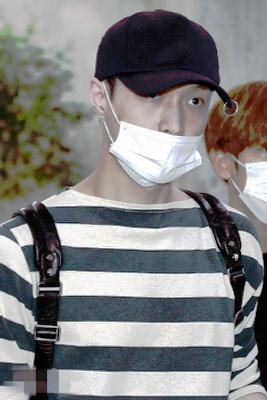mask_weared_incorrect: (105, 86, 210, 184)
